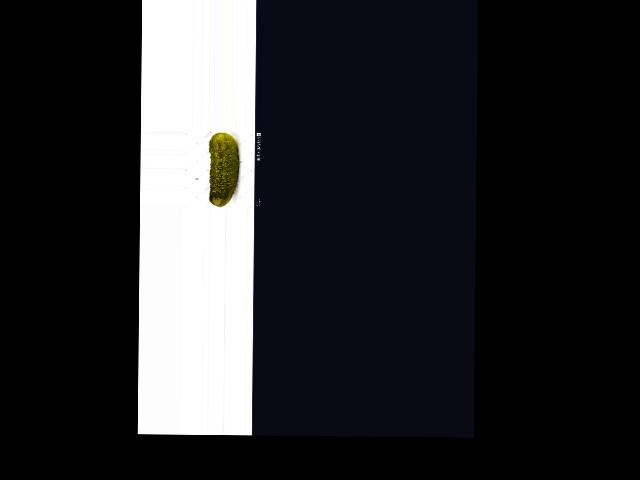cucumber: (208, 132, 239, 207)
